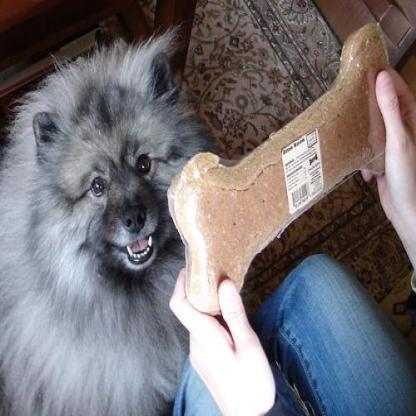keeshond: (0, 47, 189, 414)
